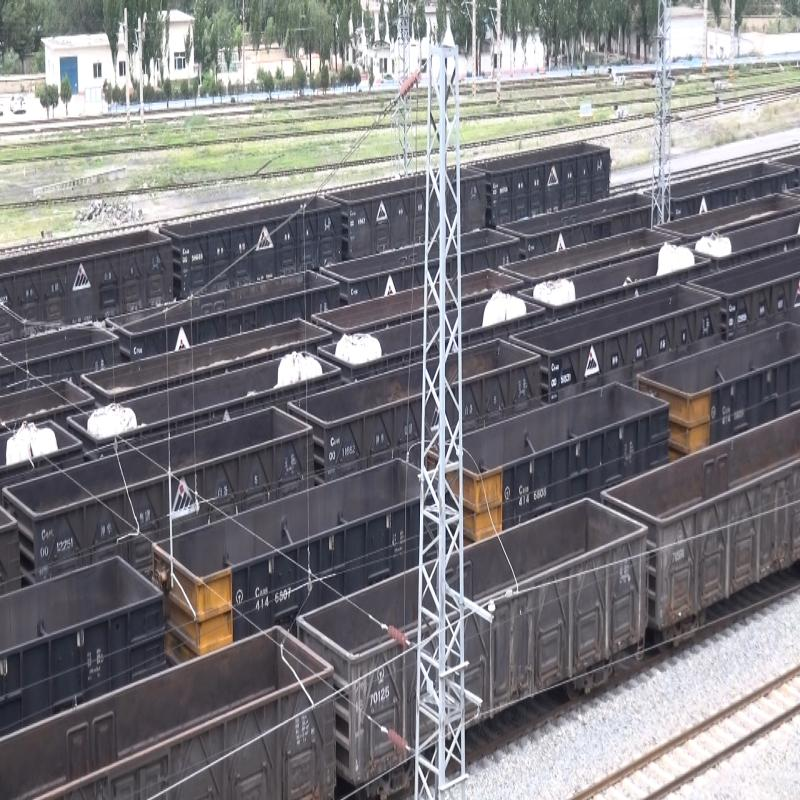train: (485, 543, 654, 688), (471, 424, 660, 534), (171, 217, 350, 276)
